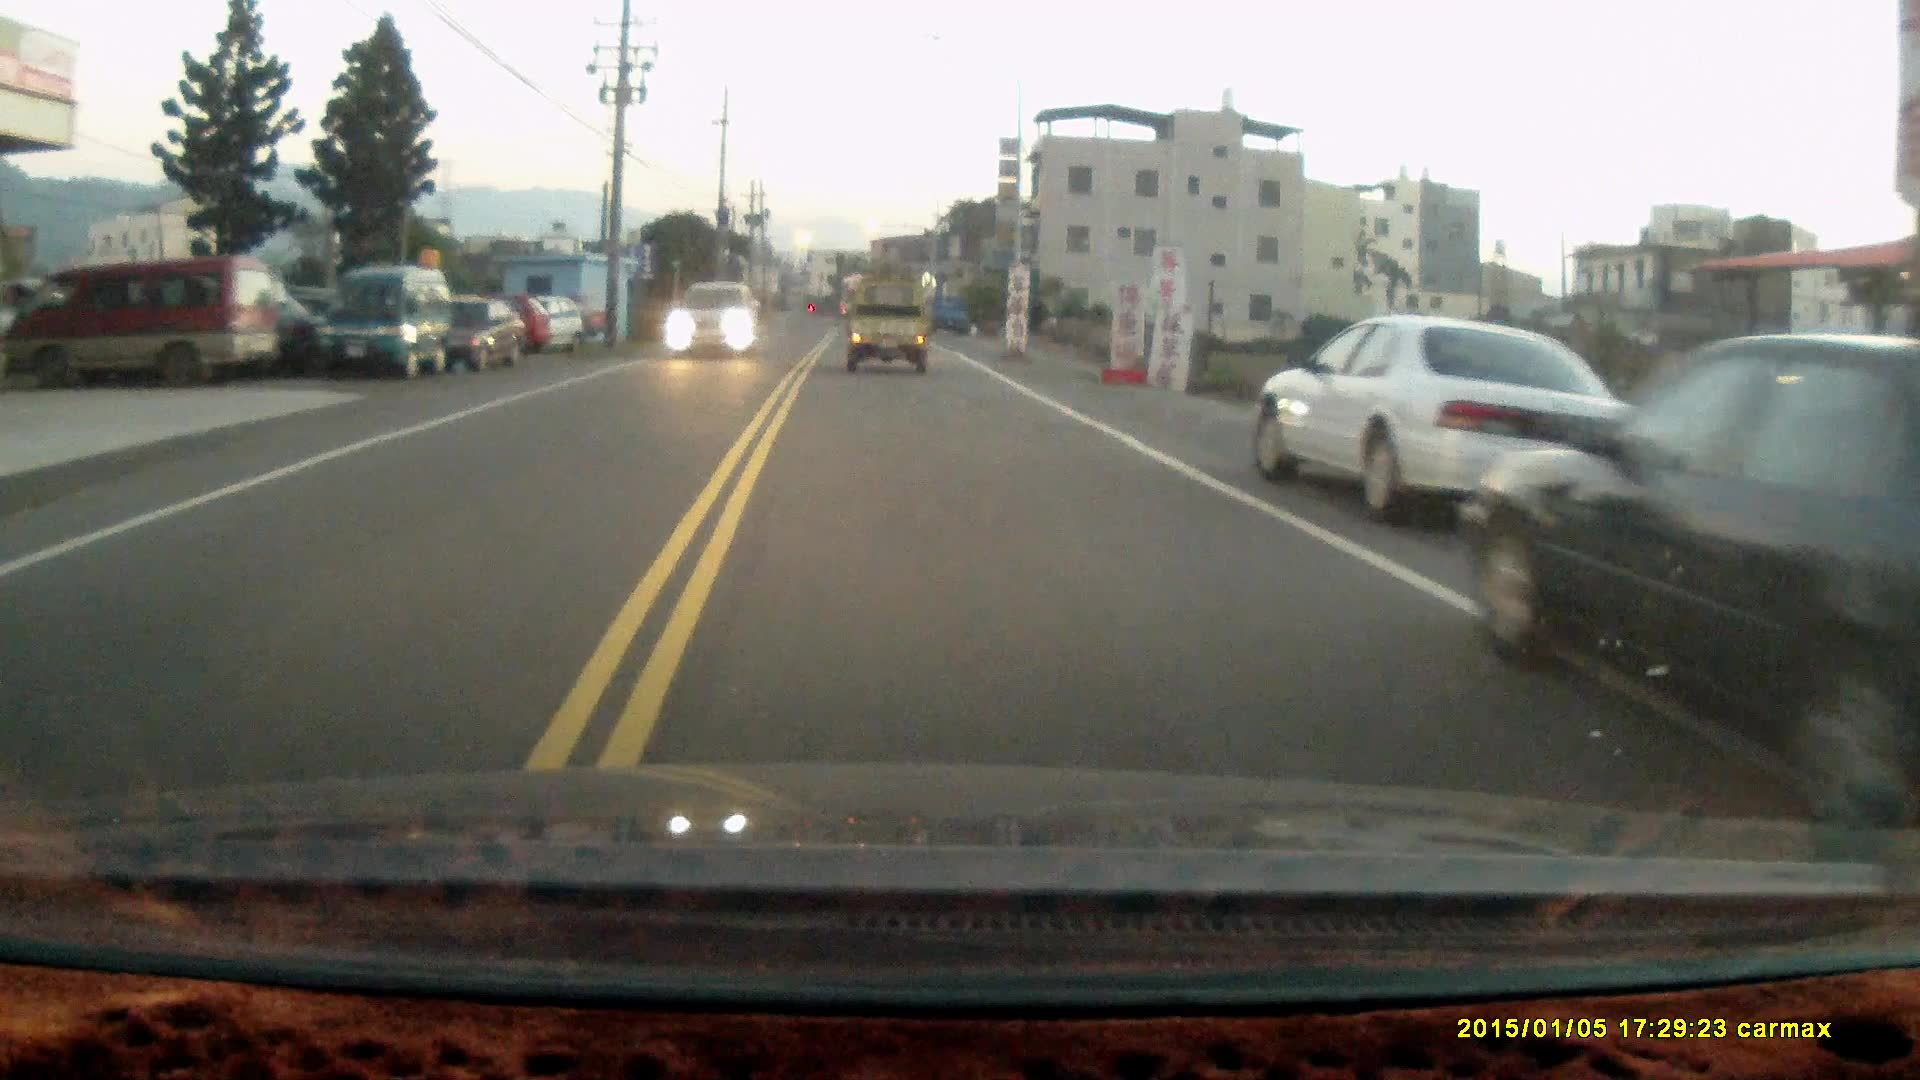vehicle: (1465, 320, 1920, 823), (1251, 316, 1635, 530), (3, 258, 276, 384), (316, 264, 455, 380), (666, 280, 765, 359), (848, 281, 932, 373), (455, 293, 527, 378)
